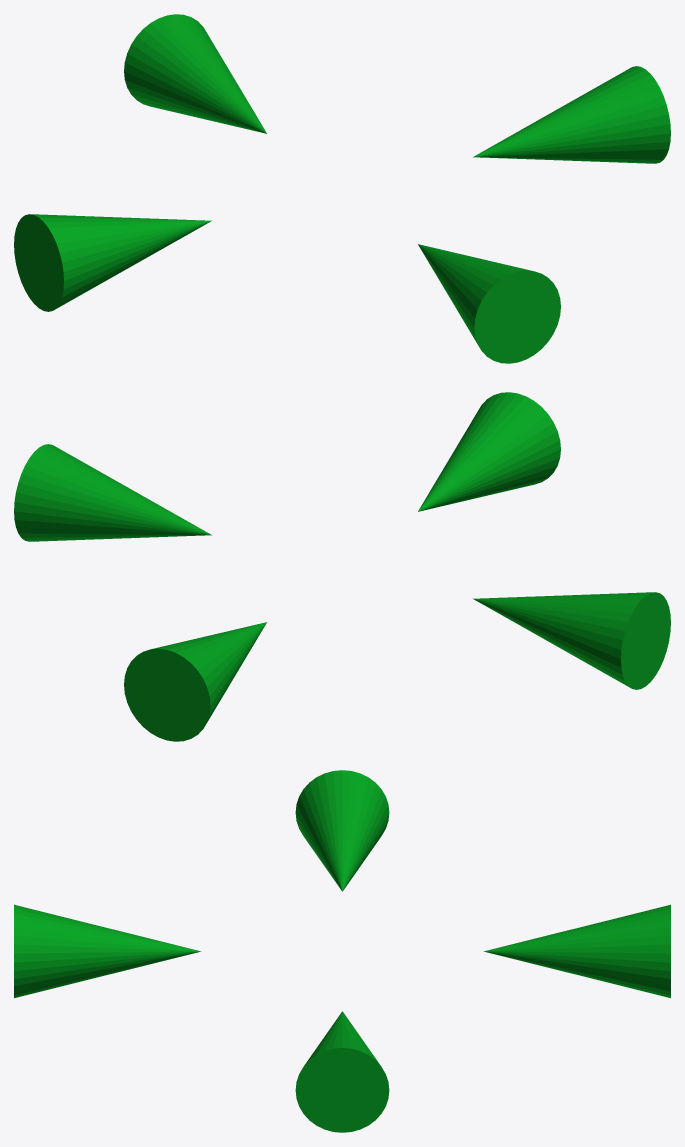
Rendered from ObjectNavi.fbx.
3 renders of one model, top to bottom at view 1: azimuth 30°, elevation 25°; view 2: azimuth 150°, elevation 25°; view 3: azimuth 270°, elevation 25°, orthographic. The views are drawn at different scales.
Visible parts, largest first — view 1: 円錐.002, 円錐.003, 円錐, 円錐.001; view 2: 円錐.002, 円錐.003, 円錐, 円錐.001; view 3: 円錐, 円錐.001, 円錐.002, 円錐.003.
Boxes of the visible parts, bbox=[...] form: 円錐.002: bbox=[473, 66, 670, 163]; 円錐.003: bbox=[14, 214, 211, 311]; 円錐: bbox=[418, 244, 560, 363]; 円錐.001: bbox=[124, 14, 266, 133]; 円錐.002: bbox=[14, 444, 211, 541]; 円錐.003: bbox=[473, 592, 670, 689]; 円錐: bbox=[418, 392, 560, 511]; 円錐.001: bbox=[124, 622, 266, 741]; 円錐: bbox=[14, 904, 201, 998]; 円錐.001: bbox=[483, 904, 670, 998]; 円錐.002: bbox=[295, 1011, 389, 1132]; 円錐.003: bbox=[295, 770, 389, 891].
Size of the model in its own units: 1401 by 200 by 1401.
Materials: 4 (4 with a texture image).
